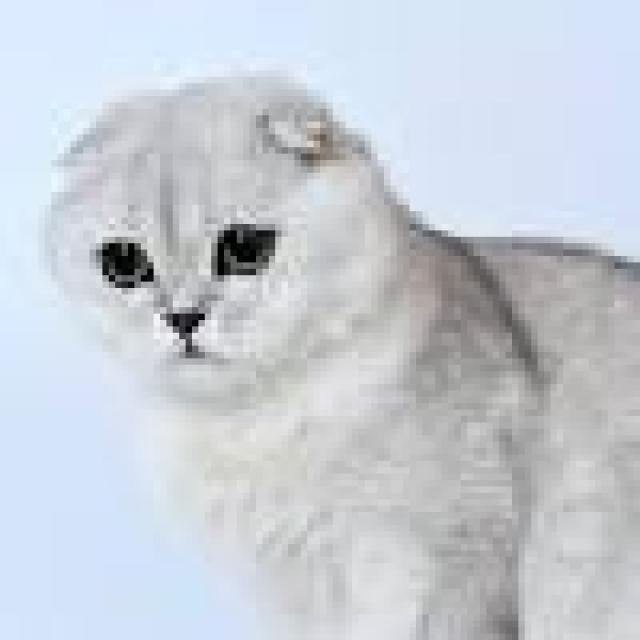cat-face: (13, 47, 454, 436)
